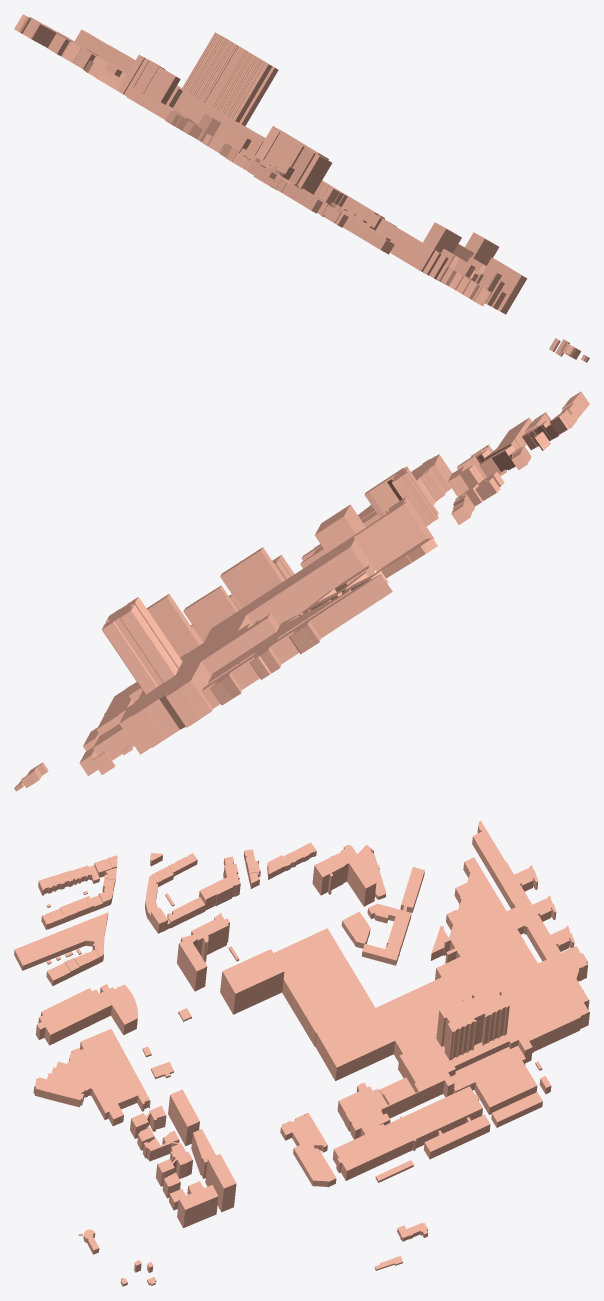
3 renders of one model, top to bottom at view 1: azimuth 30°, elevation 25°; view 2: azimuth 150°, elevation 25°; view 3: azimuth 270°, elevation 25°, orthographic. The views are drawn at different scales.
Size of the model in its own units: 523 by 390 by 701.
